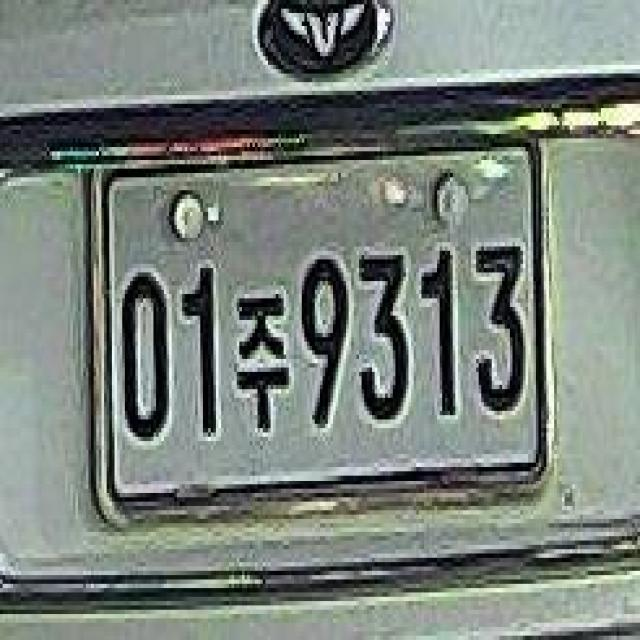illegal_plate: (85, 133, 552, 520)
